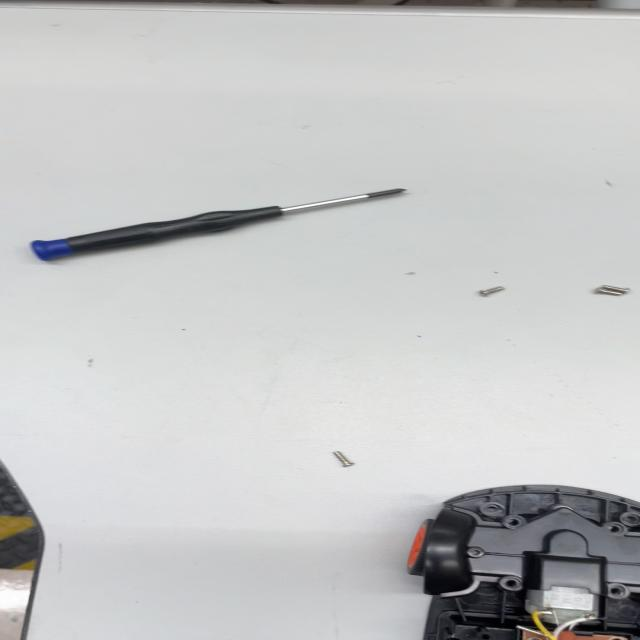screw: (585, 280, 630, 301), (474, 281, 512, 301)
screw_driver: (26, 182, 413, 268)
